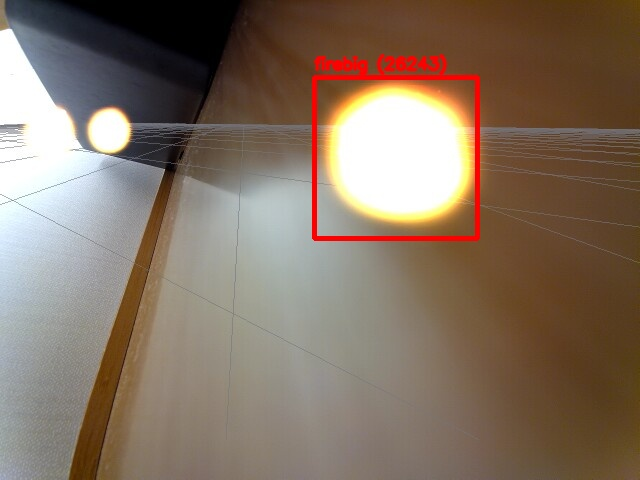firebig: (314, 77, 477, 238)
